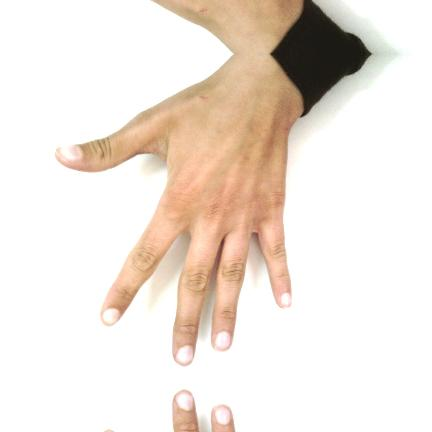Nail: (56, 145, 82, 161), (175, 346, 194, 367), (175, 389, 194, 410), (101, 308, 120, 326), (214, 332, 231, 351), (214, 405, 231, 424), (281, 293, 292, 308), (104, 430, 114, 432)
